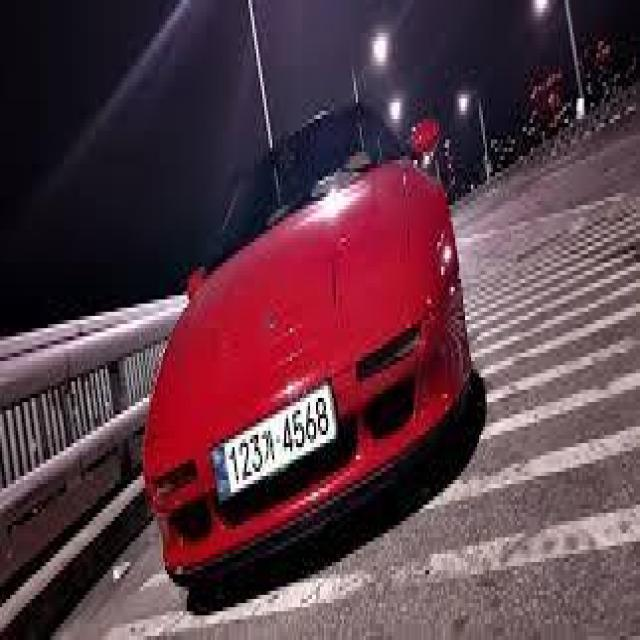car: (135, 90, 482, 595)
illegal_plate: (215, 386, 340, 510)
